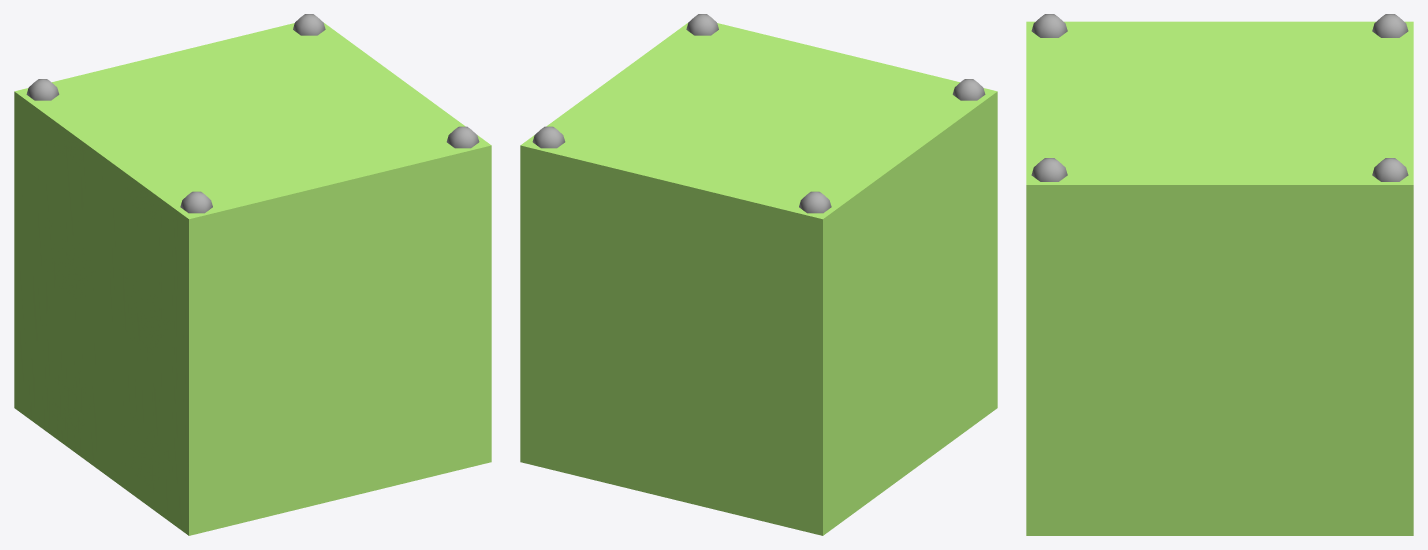
The model's file is rainbow_green.fbx.
3 views of the same model, side by side, from view 1: azimuth 30°, elevation 25°; view 2: azimuth 150°, elevation 25°; view 3: azimuth 270°, elevation 25° (orthographic). The views are drawn at different scales.
Visible parts, largest first — view 1: Mesh; view 2: Mesh; view 3: Mesh.
Boxes of the visible parts, x1,y1,x2,y2 form: Mesh: (14,14,491,535); Mesh: (520,14,997,535); Mesh: (1026,14,1413,535).
Bounding box in the file's own units: 1 × 1.05 × 1.
